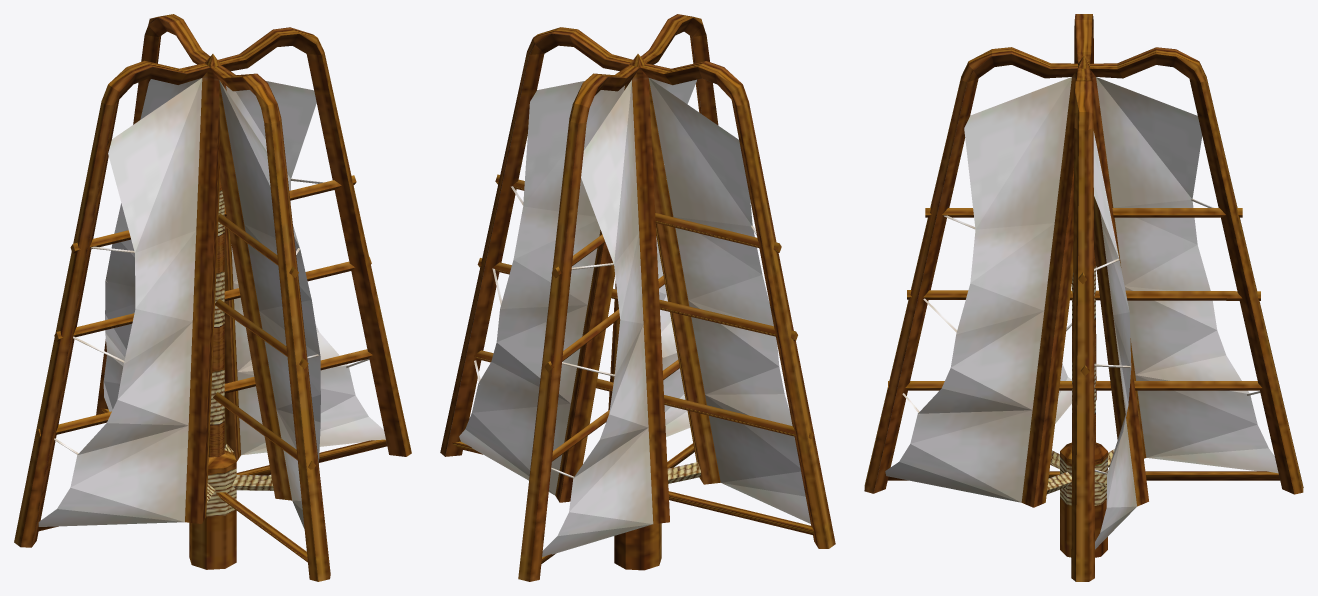
File: biawatermillvertical.dae
3 views of the same model, side by side, from view 1: azimuth 30°, elevation 25°; view 2: azimuth 150°, elevation 25°; view 3: azimuth 270°, elevation 25° (orthographic). The views are drawn at different scales.
Visible parts, largest first — view 1: m0; view 2: m0; view 3: m0.
Part boxes in pixels (box(x1,y1,x2,y2)): m0: box(14, 14, 411, 581); m0: box(440, 14, 835, 581); m0: box(864, 14, 1303, 581).
Size of the model in its own units: 1462 by 1833 by 1462.
Materials: 1 (1 with a texture image).
